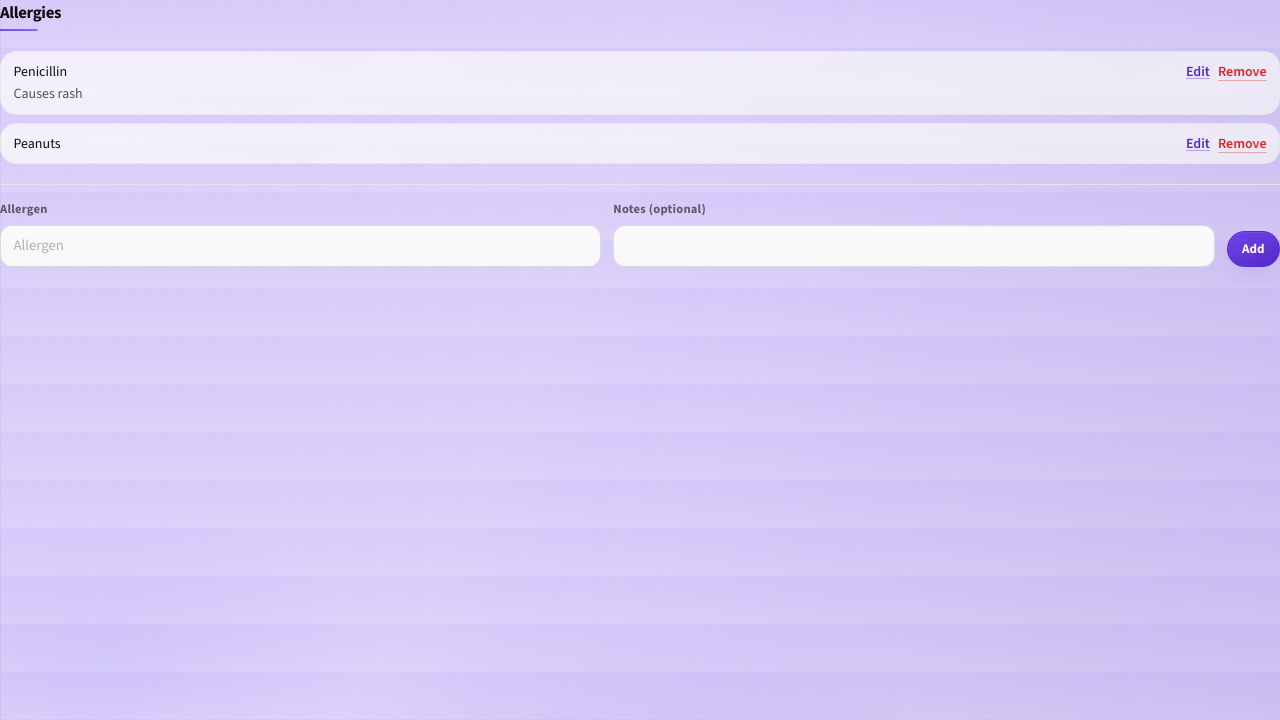
AllergiesTab › Save edit PATCHes the allergy and returns to read-only
expect the text "Penicillin" is shown: met, box [14, 62, 67, 81]
Click the button "Edit" in the row of "Penicillin": (1198, 72) [1186, 62, 1210, 82]
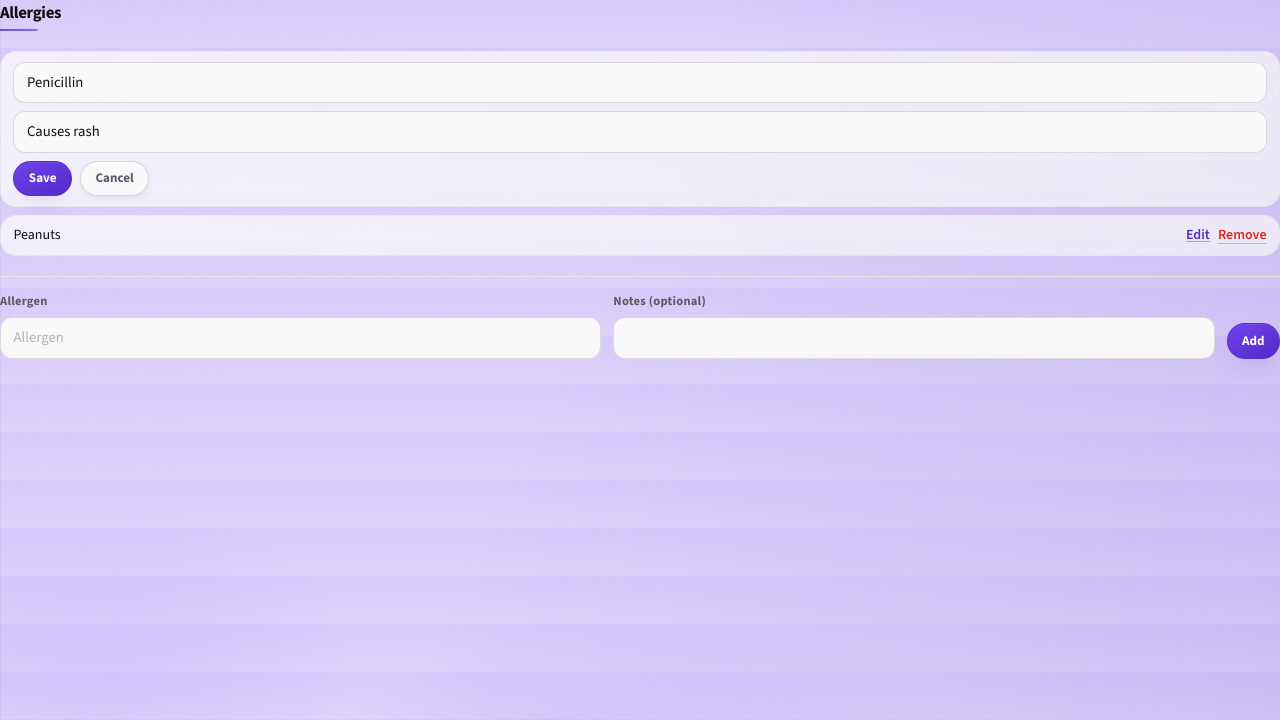
Replace the text in the 2nd field showing "Causes rash" with "Anaphylaxis": (640, 132) [14, 111, 1267, 152]
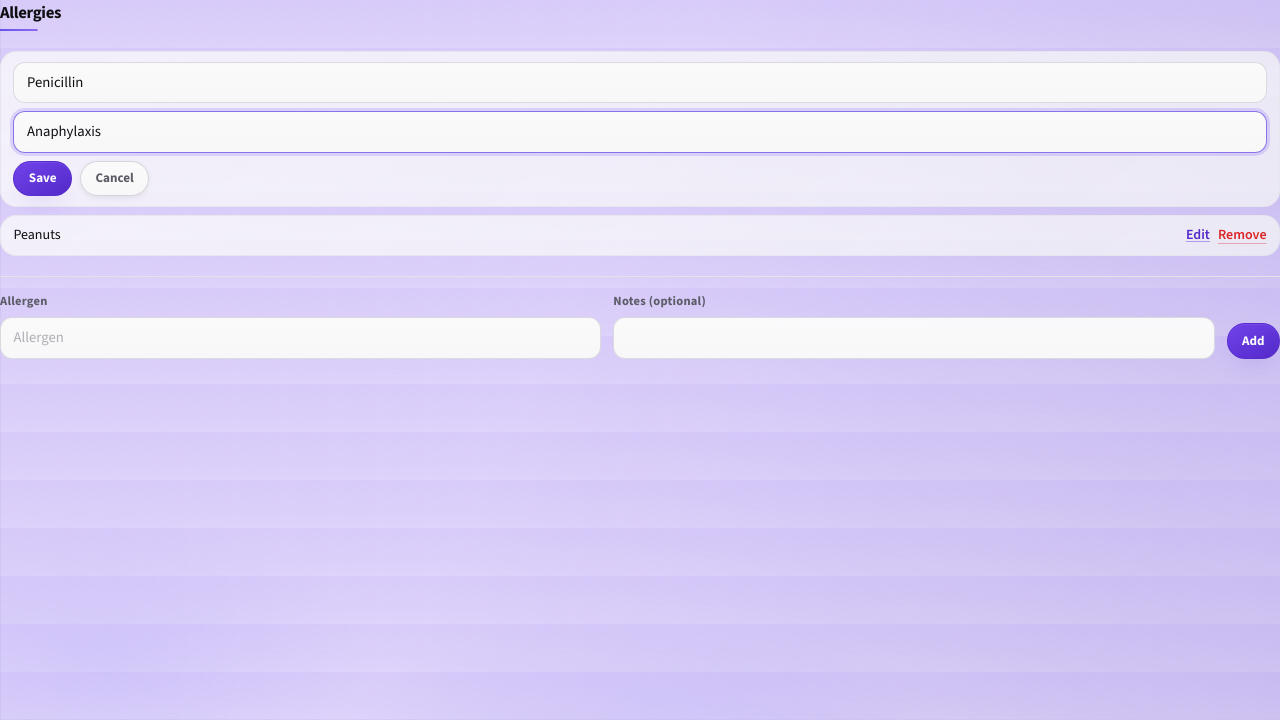
Click the button "Save": (43, 178) [14, 160, 72, 196]
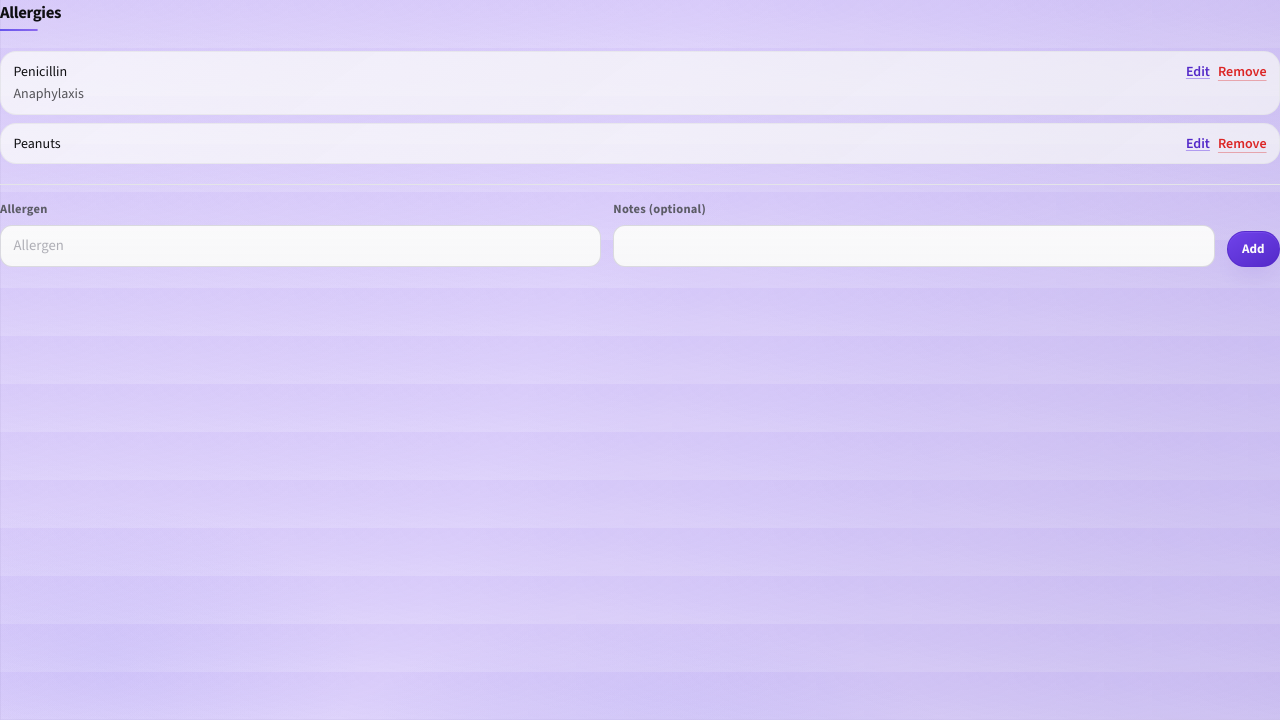
expect the text "Anaphylaxis" is shown: met, box [14, 84, 84, 103]
